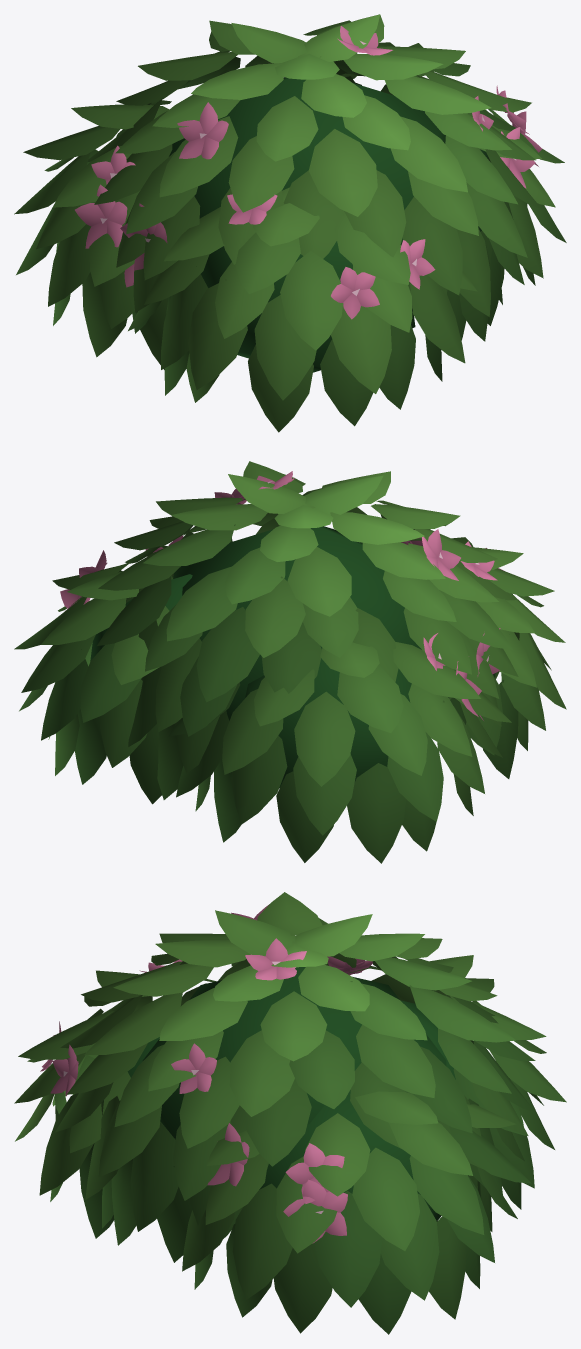
The model's file is bush_azalea_lod1.glb.
The picture shows the model from 3 angles, top to bottom: view 1: azimuth 30°, elevation 25°; view 2: azimuth 150°, elevation 25°; view 3: azimuth 270°, elevation 25°; orthographic projection. The views are drawn at different scales.
Parts seen in each view (by area): view 1: bush_azalea.001; view 2: bush_azalea.001; view 3: bush_azalea.001.
Boxes of the visible parts, <box> form: bush_azalea.001: <box>14,14,566,432</box>; bush_azalea.001: <box>14,461,566,863</box>; bush_azalea.001: <box>14,892,566,1334</box>.
Bounding box in the file's own units: 1.45 × 0.8612 × 1.39.
